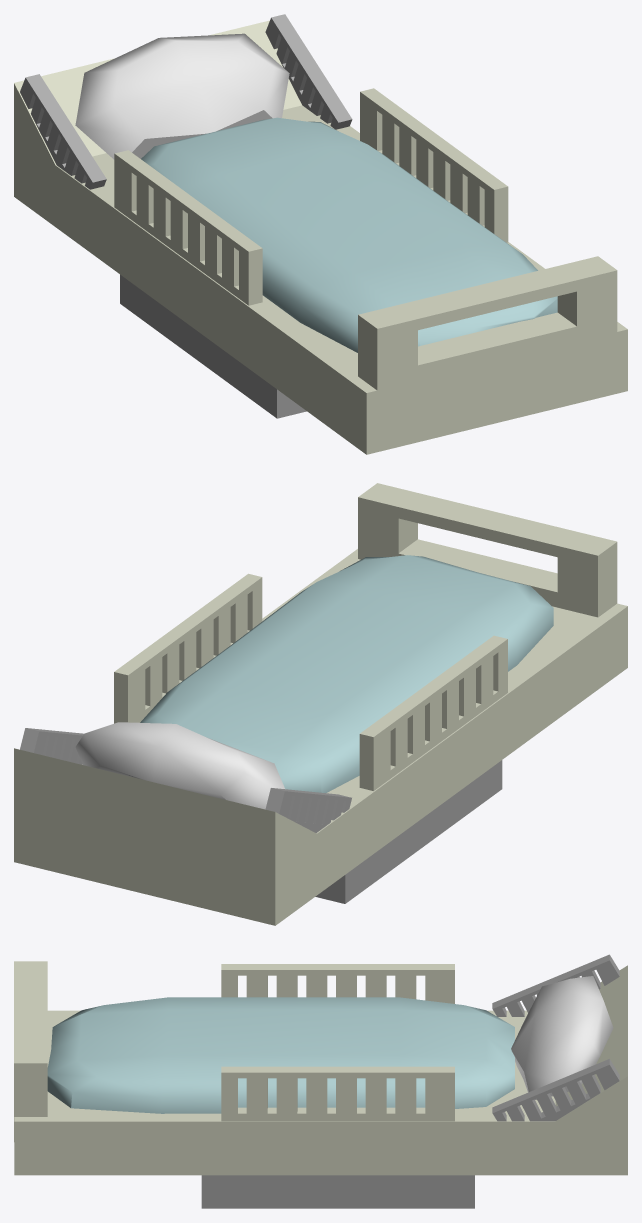
Rendered from Bed.fbx.
3 renders of one model, top to bottom at view 1: azimuth 30°, elevation 25°; view 2: azimuth 150°, elevation 25°; view 3: azimuth 270°, elevation 25°, orthographic. The views are drawn at different scales.
Visible parts, largest first — view 1: pCube1; view 2: pCube1; view 3: pCube1.
Part boxes in pixels (box(x1,y1,x2,y2)): pCube1: box(14, 14, 627, 454); pCube1: box(14, 483, 627, 925); pCube1: box(14, 954, 627, 1208).
Bounding box in the file's own units: 3.02 × 2.14 × 7.06.
